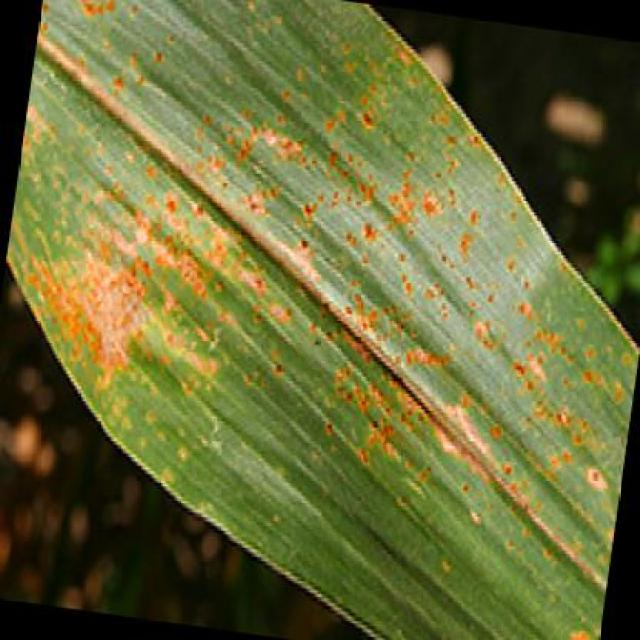Corn_Rust: (60, 40, 592, 585)
